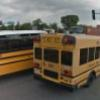buses: (33, 32, 100, 92), (0, 30, 47, 78)
chimneys: (94, 5, 98, 22)
